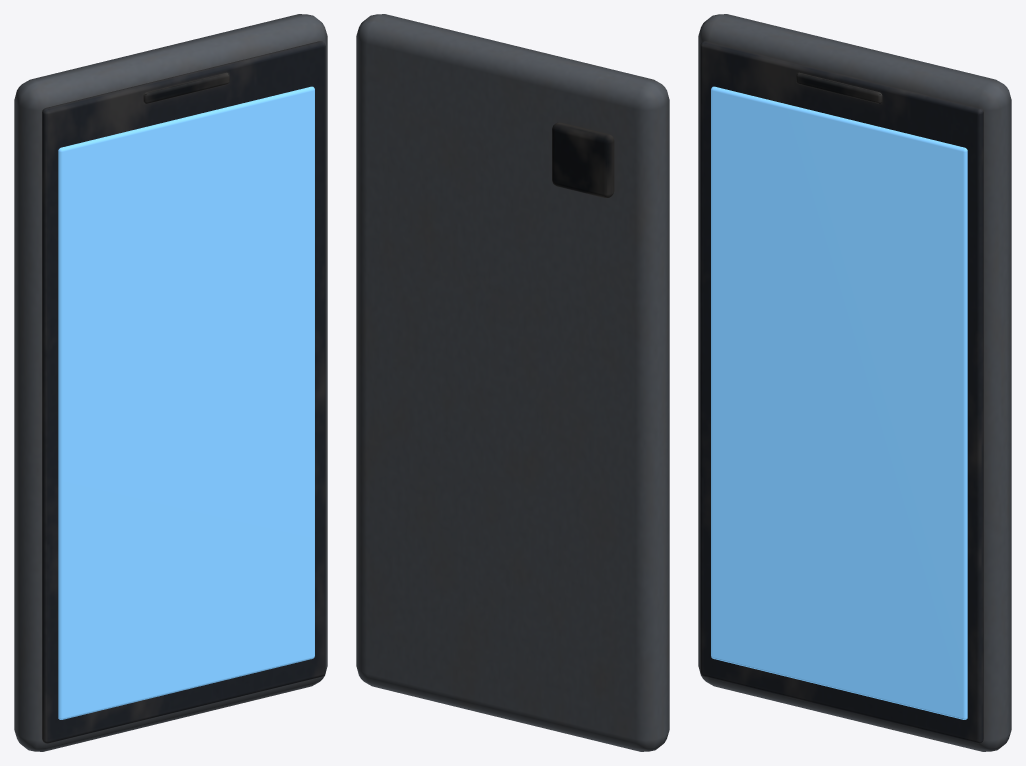
File: gracz_telefon.glb
3 views of the same model, side by side, from view 1: azimuth 30°, elevation 25°; view 2: azimuth 150°, elevation 25°; view 3: azimuth 330°, elevation 25° (orthographic).
Parts seen in each view (by area): view 1: Ekran, Telefon; view 2: Telefon; view 3: Ekran, Telefon.
Part boxes in pixels (x1,y1,x2,y2): Ekran: (58,86,314,719); Telefon: (14,14,327,751); Telefon: (356,14,669,751); Ekran: (711,86,967,719); Telefon: (698,14,1011,751).
Size of the model in its own units: 0.0715 by 0.1495 by 0.0147.
2 materials, 1 textured.
